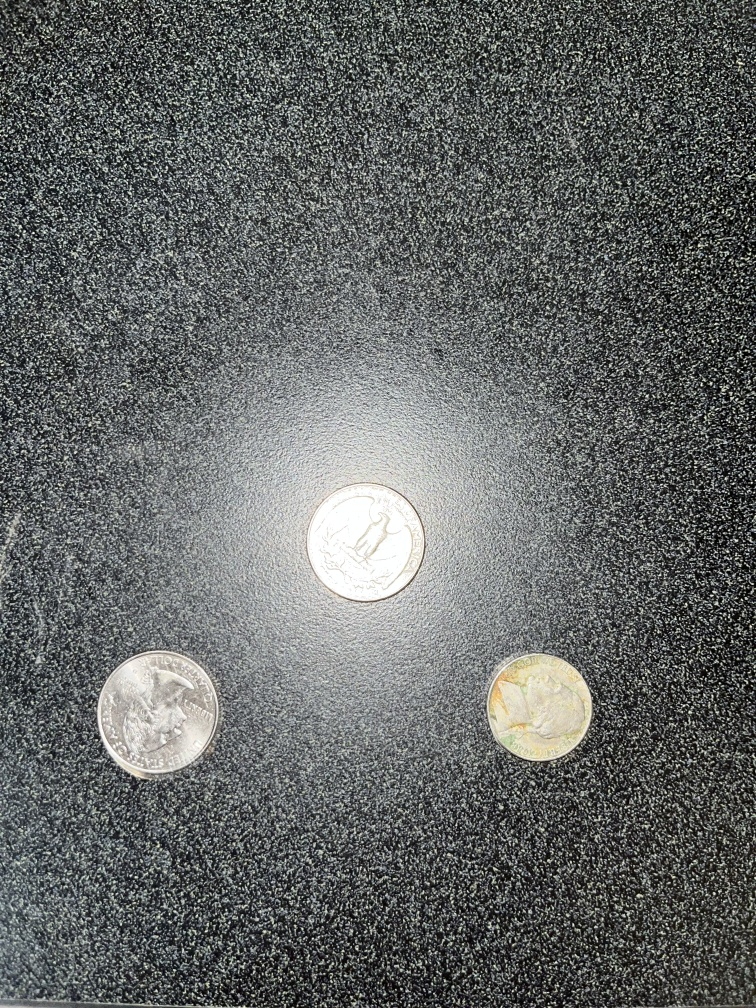nickel: (478, 649, 601, 766)
quarter: (94, 645, 221, 787), (299, 475, 430, 607)
